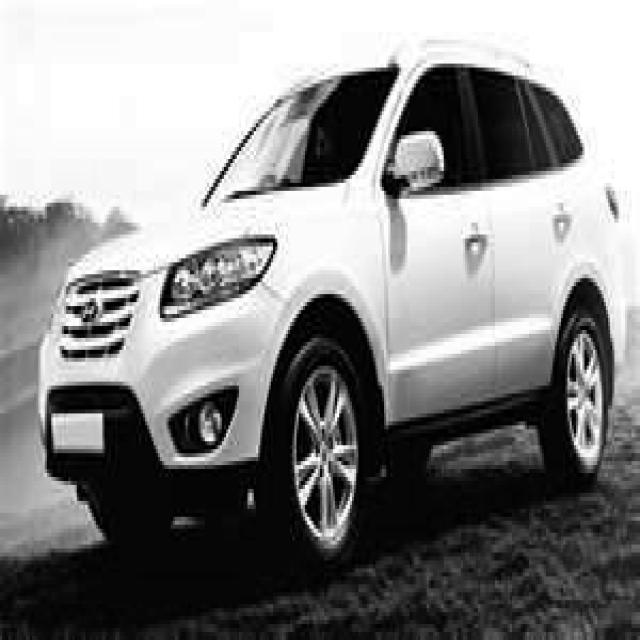car: (36, 32, 634, 580)
